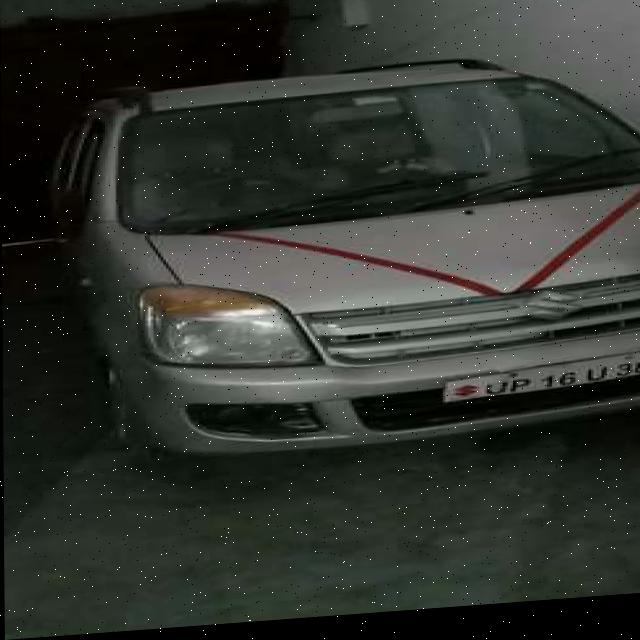plate: (432, 356, 640, 411)
